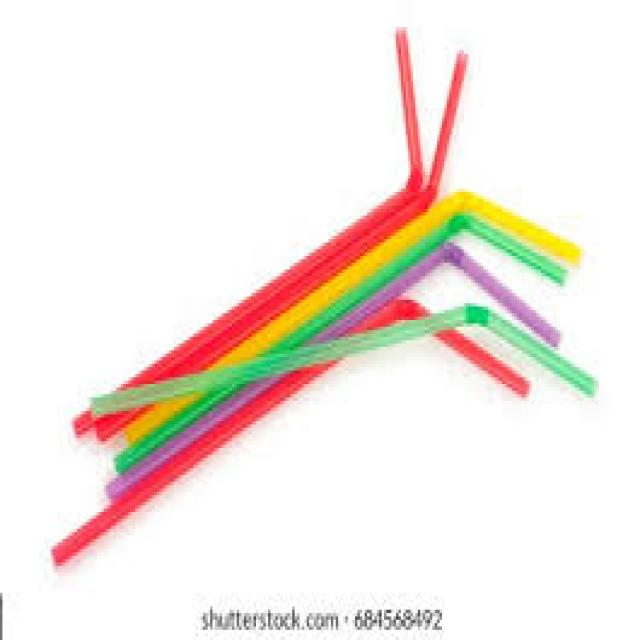plastic: (70, 288, 626, 429)
